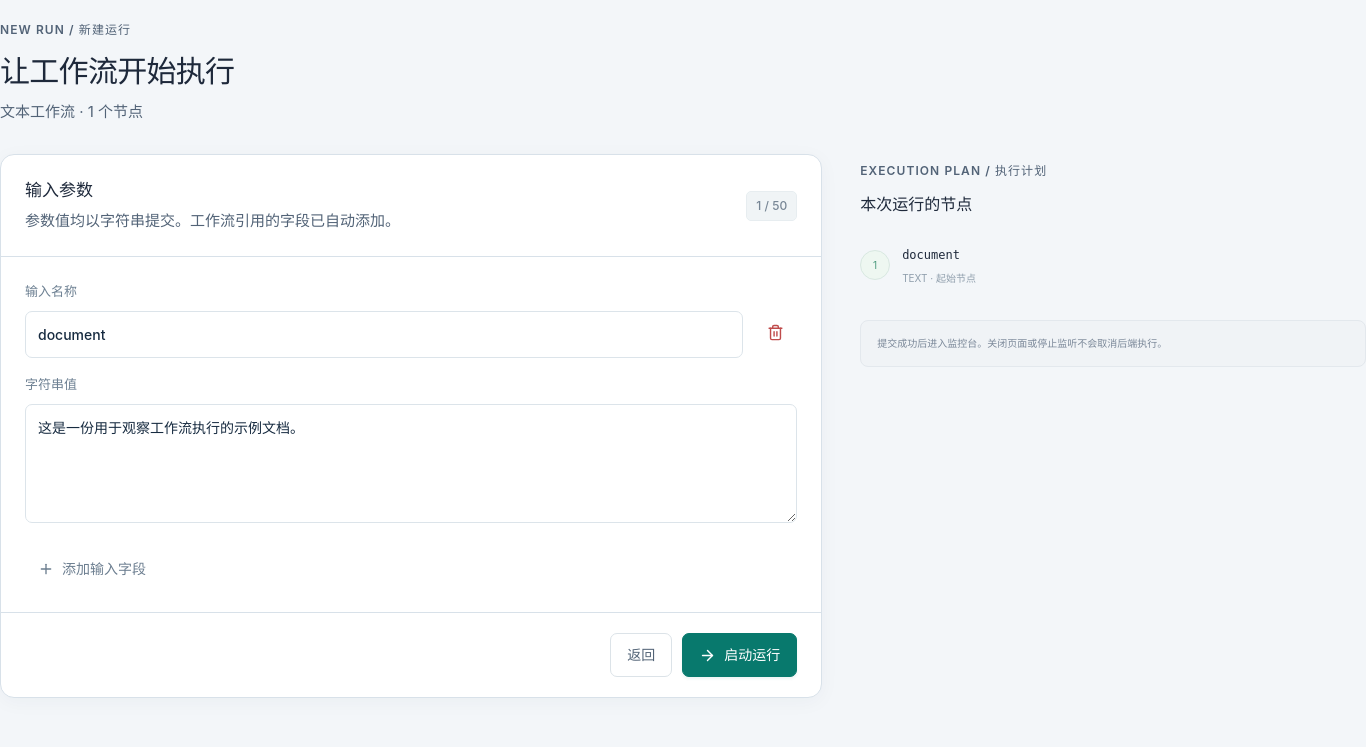
Test case: 新运行交互 › 结果不明后后台刷新失败再恢复，不会丢失同参重试的请求键
The image size is (1366, 747).
Check: the text box named "输入值 1" is shown, box [25, 404, 797, 523]
What coordinates should you click on to do the following:
click the button "启动运行"
I would click on:
 (740, 655)
Its box is [682, 633, 797, 677].
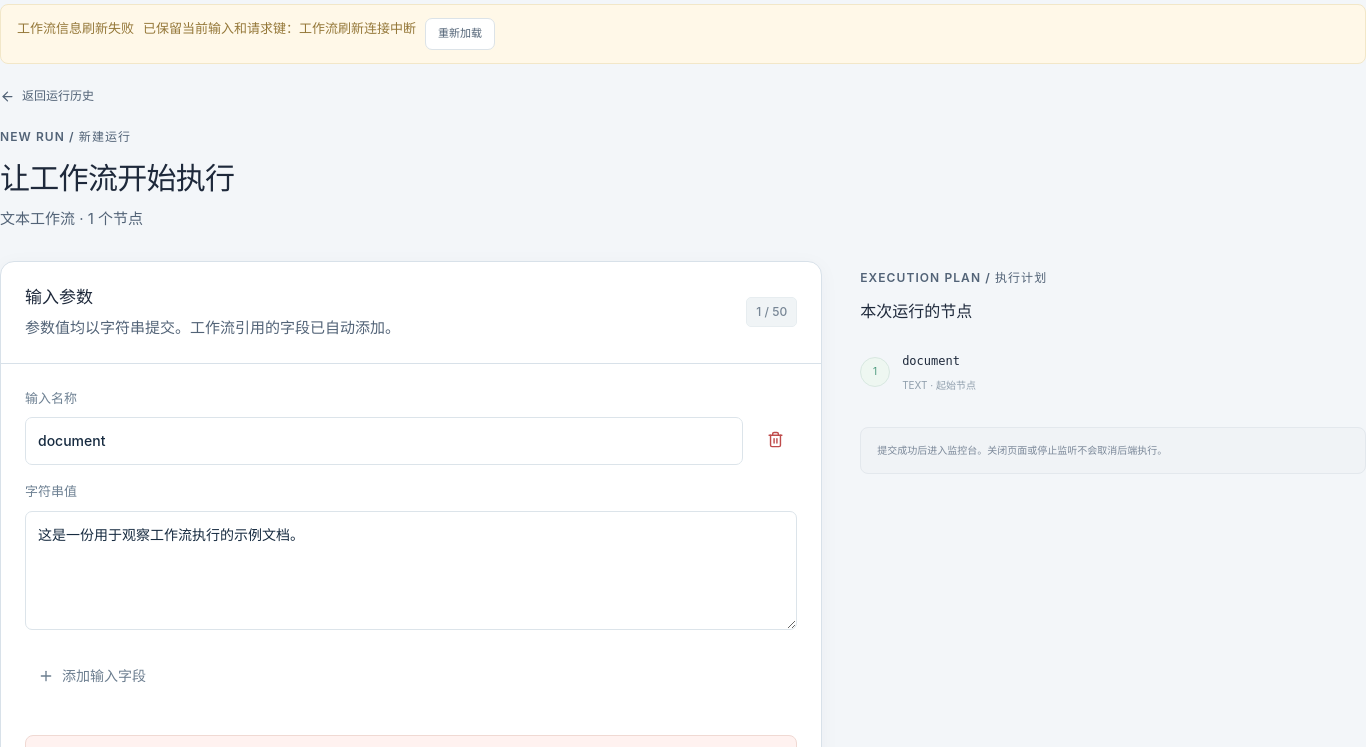
What coordinates should you click on to do the following:
click the button "重新加载"
I would click on:
 (460, 34)
Its box is [425, 18, 495, 50].
(page scrolled)
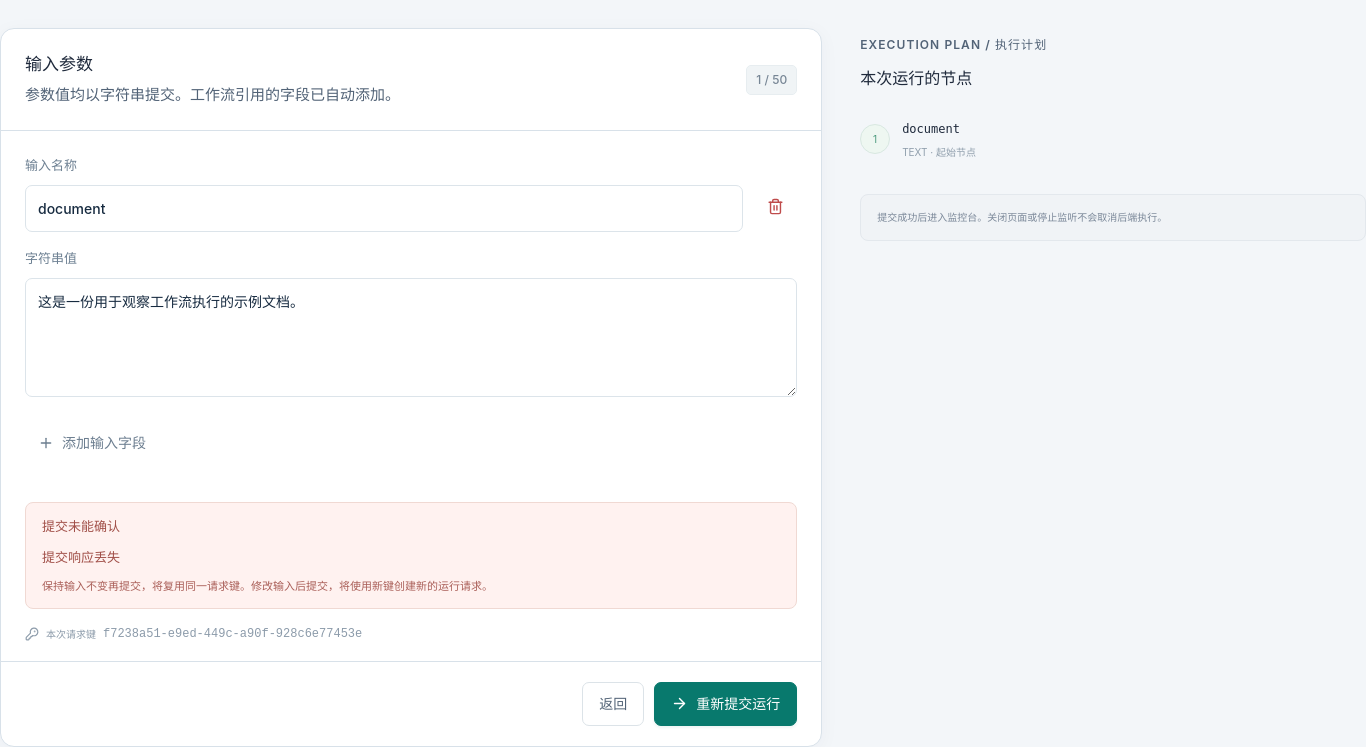
Check: the text "工作流刷新连接中断" is gone
What coordinates should you click on to do the following:
click the button "重新提交运行"
I would click on:
 (726, 704)
Its box is [654, 682, 797, 726].
(page scrolled)
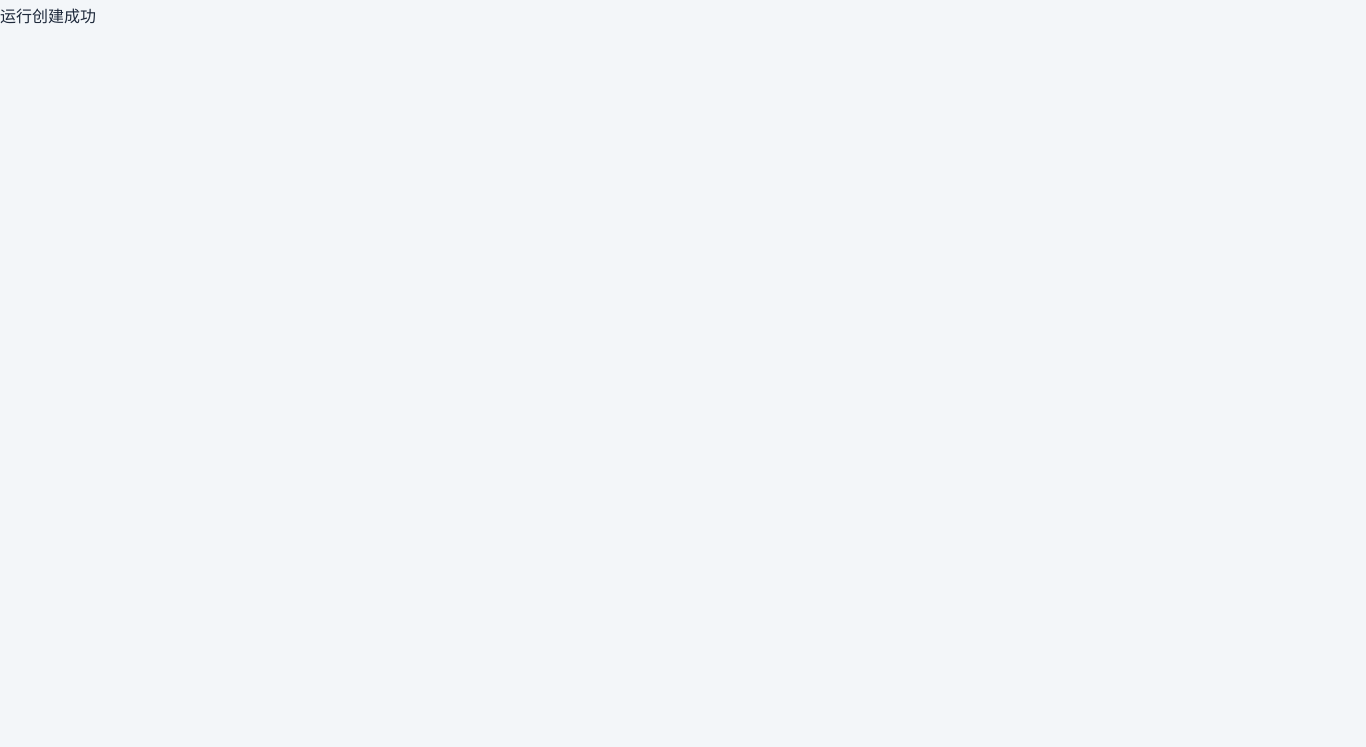
Check: the text "运行创建成功" is shown, box [0, 6, 96, 26]
